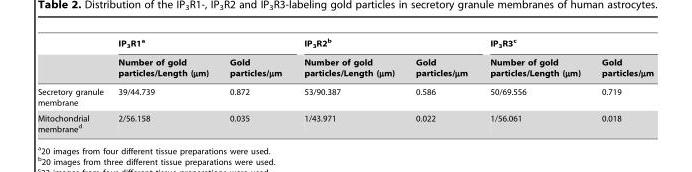table: (37, 37, 653, 133)
table column: (292, 37, 404, 133), (478, 37, 590, 133), (110, 37, 218, 133), (218, 37, 292, 133), (404, 37, 478, 133), (37, 37, 110, 133), (590, 37, 653, 133)
table column header: (37, 37, 653, 82)
table row: (37, 53, 653, 82), (37, 82, 653, 110), (37, 110, 653, 133), (37, 37, 653, 53)
table spanning cell: (292, 37, 478, 53), (110, 37, 292, 53), (478, 37, 653, 53)
